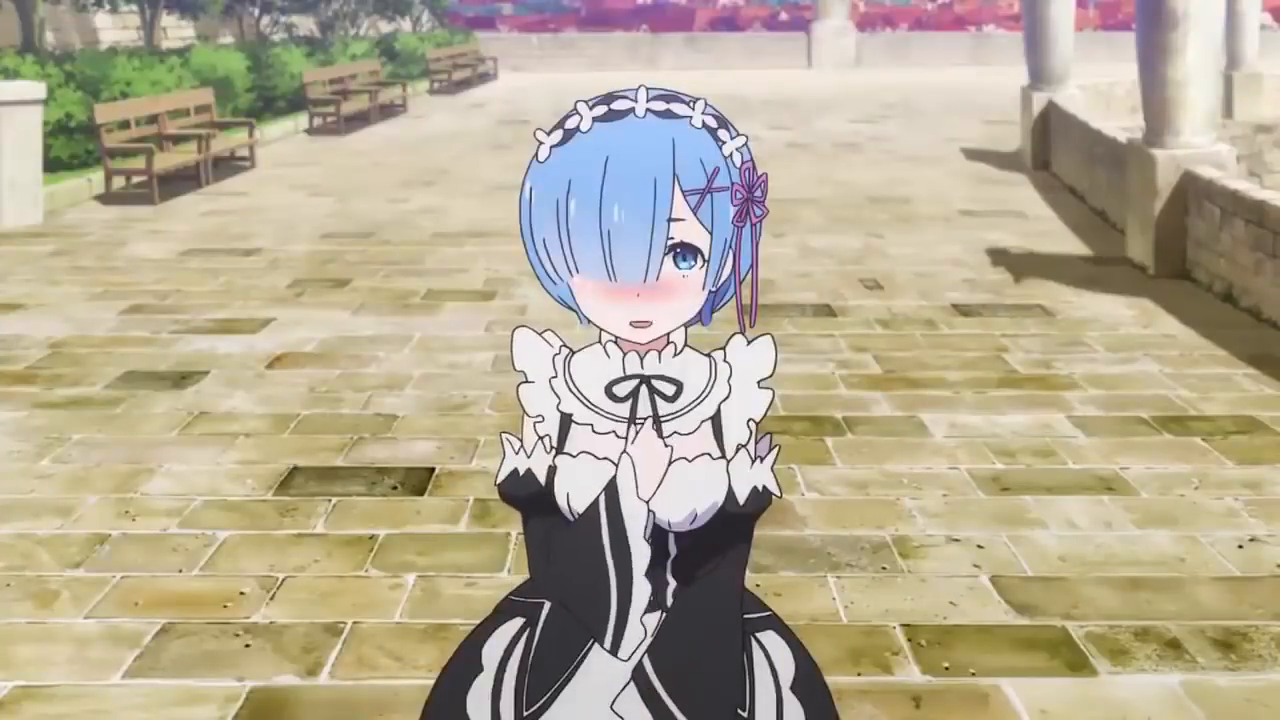REM: (514, 83, 768, 347)
